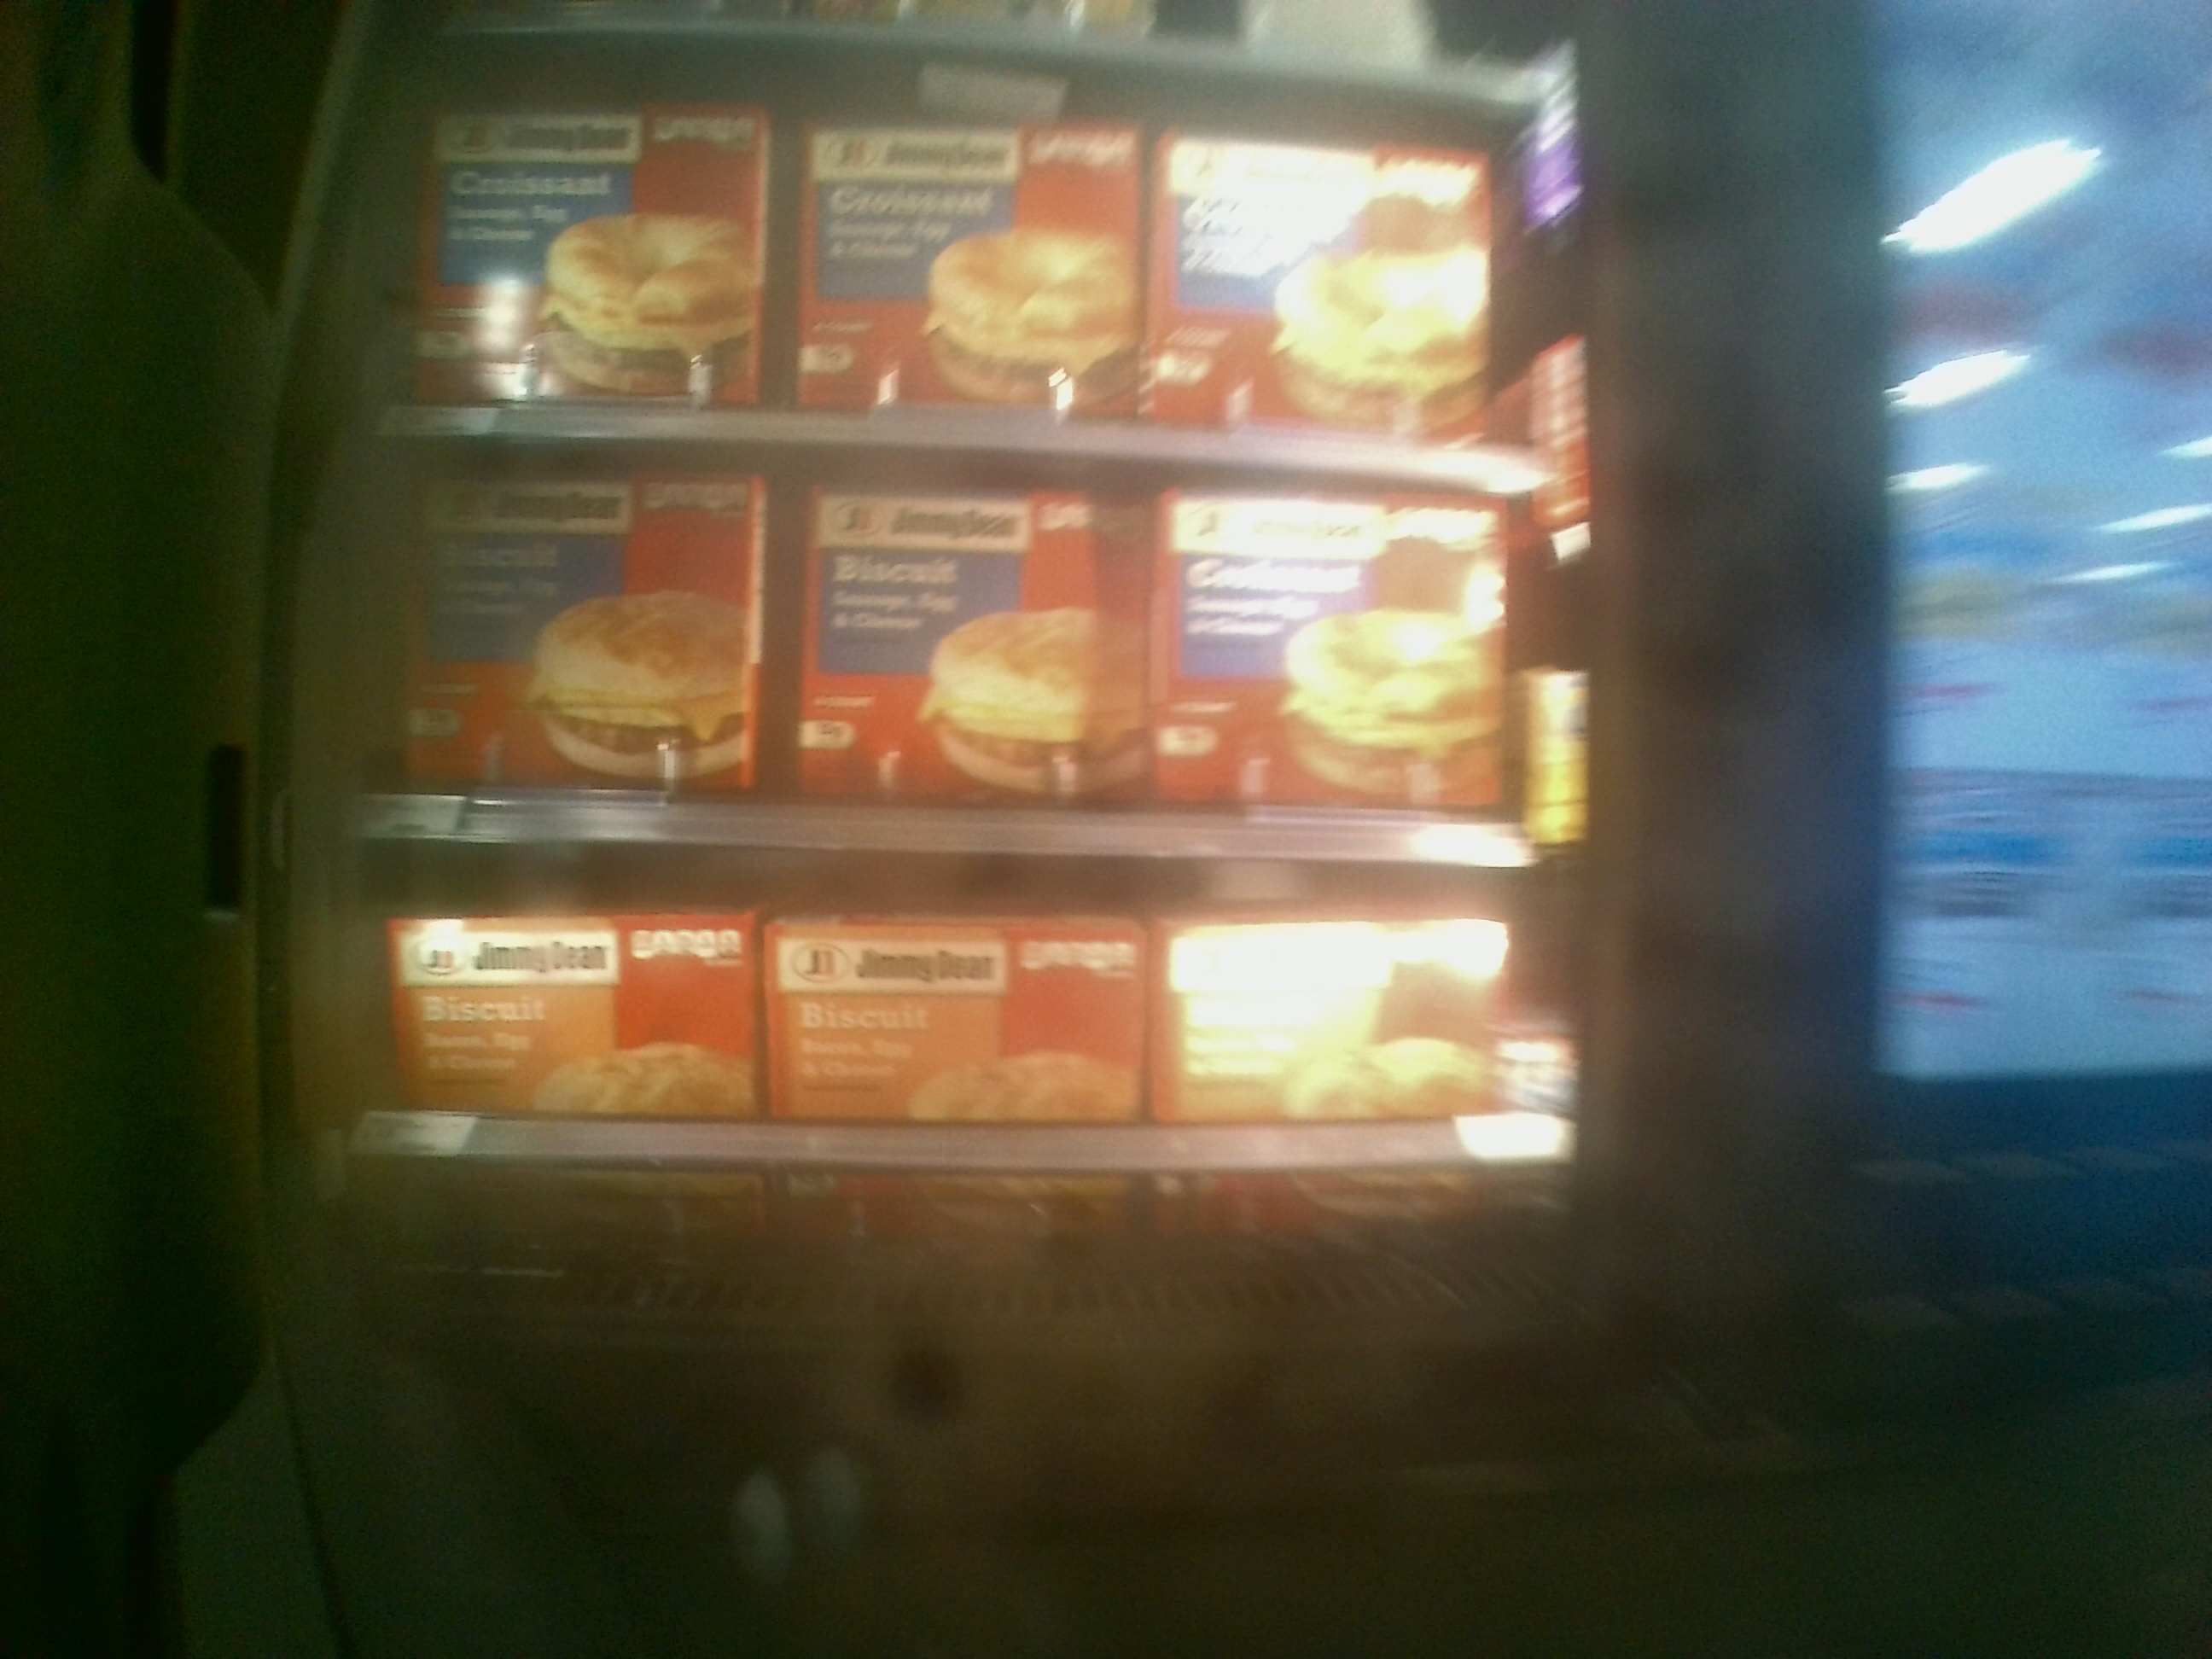shelf: (359, 849, 1594, 1298), (347, 441, 1545, 854)
